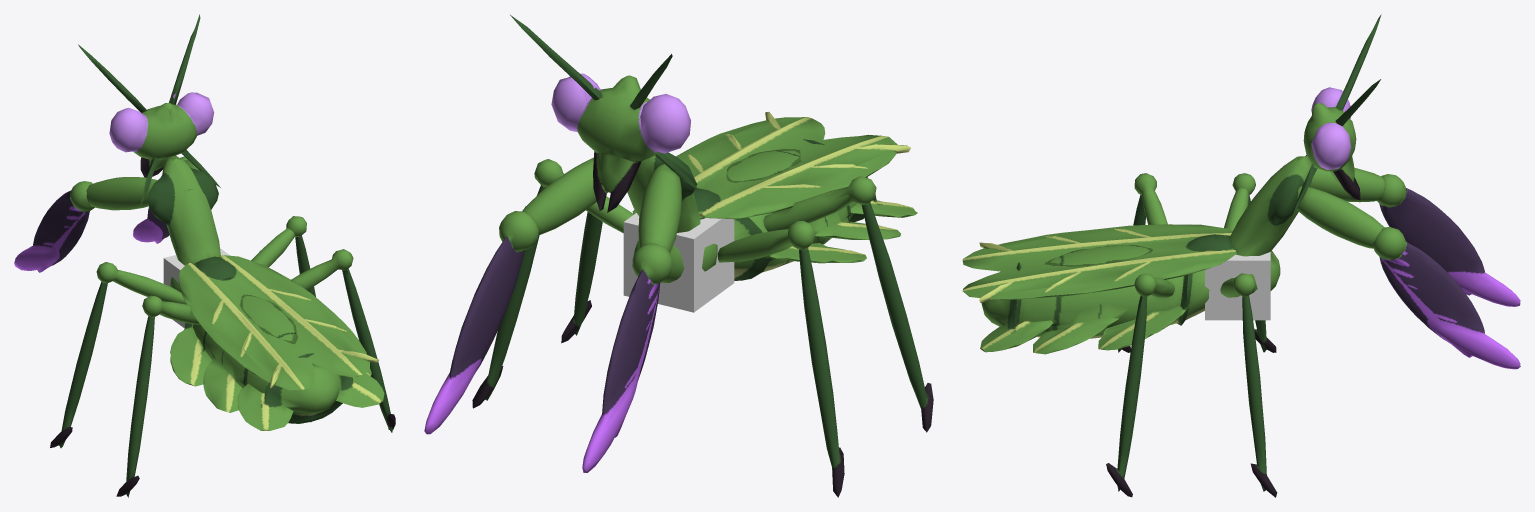
Rendered from Vexmantis.fbx.
The picture shows the model from 3 angles, left to right: view 1: azimuth 30°, elevation 25°; view 2: azimuth 150°, elevation 25°; view 3: azimuth 270°, elevation 25°; orthographic projection. The views are drawn at different scales.
Visible parts, largest first — view 1: Wings, Body, Head, Thorax, BladeL, LegML, LegBL, LegBR, ScytheArmL, LegMR, BladeR, Root; view 2: Wings, Head, BladeR, BladeL, Body, LegBL, LegML, Root, LegMR, ScytheArmR, ScytheArmL, Thorax (+1 smaller); view 3: Wings, Body, BladeR, BladeL, Head, Thorax, LegBR, Root, LegMR, ScytheArmR, ScytheArmL, LegML (+1 smaller).
Part boxes in pixels (x1,y1,x2,y2): Wings: (178, 254, 378, 390); Body: (170, 295, 384, 430); Head: (78, 14, 220, 207); Thorax: (148, 155, 220, 291); BladeL: (14, 181, 94, 272); LegML: (50, 262, 186, 448); LegBL: (116, 295, 199, 497); LegBR: (291, 249, 395, 432); ScytheArmL: (86, 177, 157, 210); LegMR: (251, 216, 315, 296); BladeR: (133, 156, 187, 243); Root: (163, 248, 229, 328); Wings: (676, 112, 910, 219); Head: (510, 15, 699, 212); BladeR: (424, 211, 538, 434); BladeL: (582, 243, 672, 472); Body: (632, 139, 917, 280); LegBL: (763, 176, 933, 432); LegML: (717, 221, 844, 497); Root: (623, 213, 734, 312); LegMR: (472, 159, 633, 408); ScytheArmR: (522, 157, 607, 235); ScytheArmL: (638, 164, 681, 252); Thorax: (627, 152, 717, 282); Wings: (962, 224, 1236, 302); Body: (980, 245, 1209, 354); BladeR: (1373, 227, 1520, 369); BladeL: (1377, 174, 1520, 306); Head: (1292, 14, 1381, 216); Thorax: (1229, 156, 1311, 293); LegBR: (1106, 273, 1174, 497); Root: (1205, 251, 1270, 320); LegMR: (1220, 273, 1277, 497); ScytheArmR: (1296, 186, 1384, 248); ScytheArmL: (1310, 167, 1384, 202); LegML: (1224, 173, 1276, 352).
Size of the model in its own units: 10.47 by 12.72 by 16.96.
Materials: 1 (1 with a texture image).
